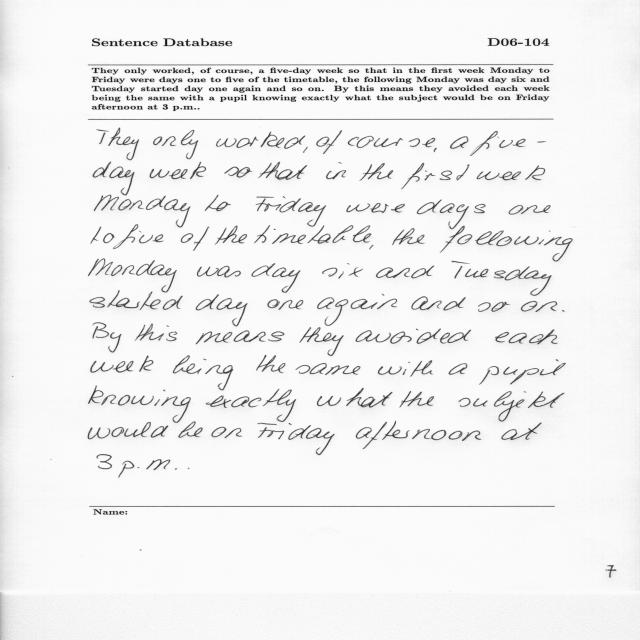word: (440, 226, 573, 262), (89, 386, 191, 423), (452, 261, 552, 296), (356, 421, 481, 449), (459, 391, 565, 422), (94, 195, 191, 227), (88, 259, 177, 293), (206, 389, 296, 422), (317, 294, 397, 326), (258, 423, 335, 455), (479, 359, 566, 385), (254, 225, 371, 244), (255, 196, 326, 227), (173, 356, 233, 391), (417, 200, 486, 230), (470, 131, 546, 156), (90, 290, 183, 310), (356, 328, 471, 344), (401, 163, 469, 189), (196, 295, 248, 327), (216, 132, 305, 149), (317, 388, 392, 408), (252, 263, 301, 293), (93, 162, 134, 196), (88, 422, 168, 439), (97, 128, 139, 160), (153, 130, 198, 159), (300, 327, 344, 356), (113, 225, 163, 250), (196, 331, 285, 345), (91, 355, 154, 373), (348, 136, 435, 148), (477, 166, 545, 181), (119, 459, 171, 478), (149, 162, 206, 179), (495, 330, 558, 345), (378, 360, 433, 377), (258, 162, 307, 180), (93, 323, 122, 353), (411, 296, 466, 311), (296, 363, 361, 375), (501, 422, 542, 440), (135, 324, 177, 341), (376, 266, 434, 278), (181, 227, 209, 251), (322, 263, 363, 279), (316, 130, 342, 154), (360, 163, 394, 181), (215, 226, 247, 245), (346, 203, 405, 213), (392, 228, 425, 245), (400, 391, 435, 407), (256, 355, 286, 373), (197, 266, 241, 277), (178, 421, 203, 438), (509, 205, 551, 215), (205, 195, 231, 211), (91, 227, 115, 244), (268, 299, 304, 310), (521, 301, 557, 312), (326, 162, 346, 180), (212, 427, 242, 438), (478, 302, 510, 312), (225, 167, 253, 178), (450, 136, 468, 149), (449, 363, 468, 375), (97, 455, 112, 470), (303, 147, 308, 153), (370, 245, 374, 250), (434, 148, 437, 152), (562, 310, 565, 312), (175, 468, 177, 470)
